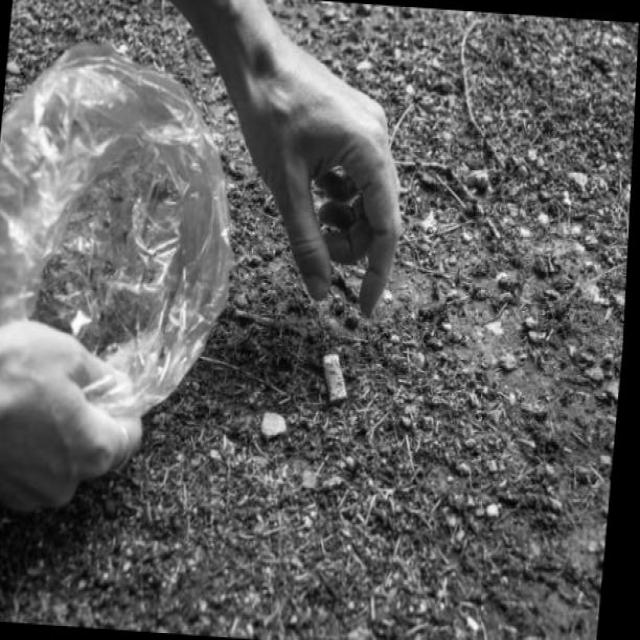cigarette: (324, 344, 358, 406)
